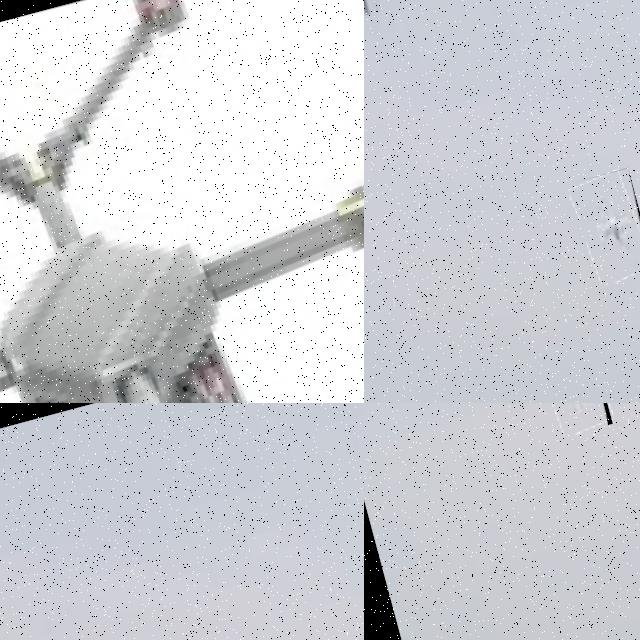0: (569, 167, 640, 285), (534, 403, 613, 437)
drone: (0, 0, 364, 403)
